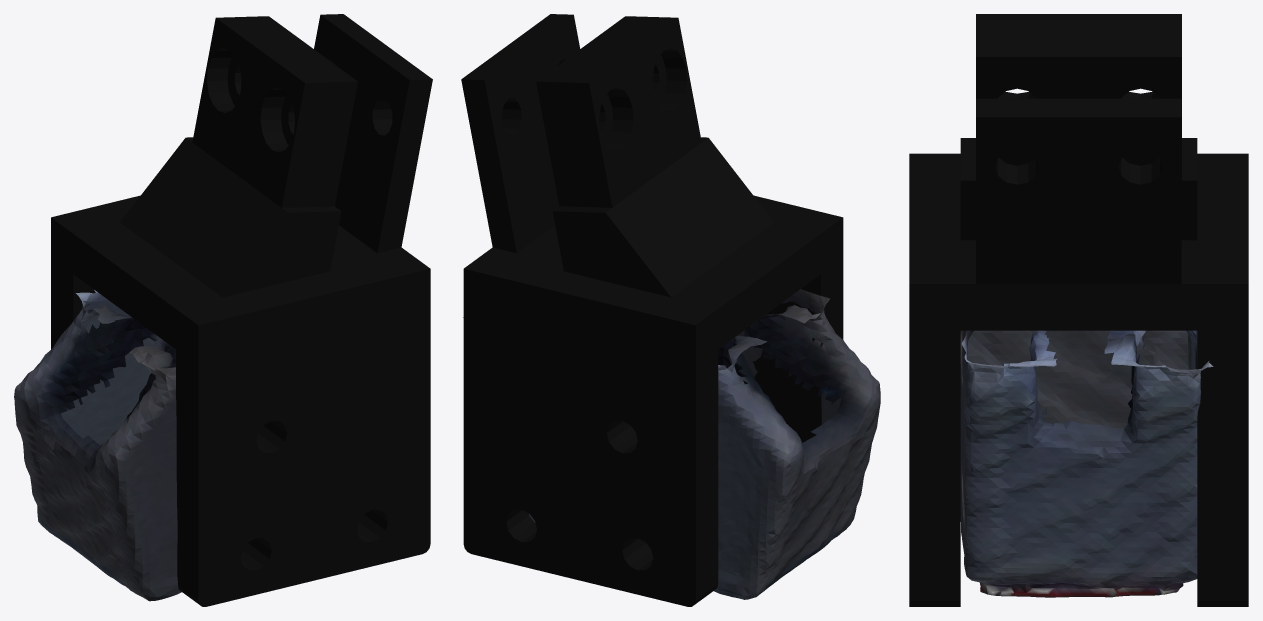
The model's file is mesh_part_black.obj.
The picture shows the model from 3 angles, left to right: view 1: azimuth 30°, elevation 25°; view 2: azimuth 150°, elevation 25°; view 3: azimuth 270°, elevation 25°; orthographic projection. The views are drawn at different scales.
Size of the model in its own units: 0.0426 by 0.0588 by 0.033.
